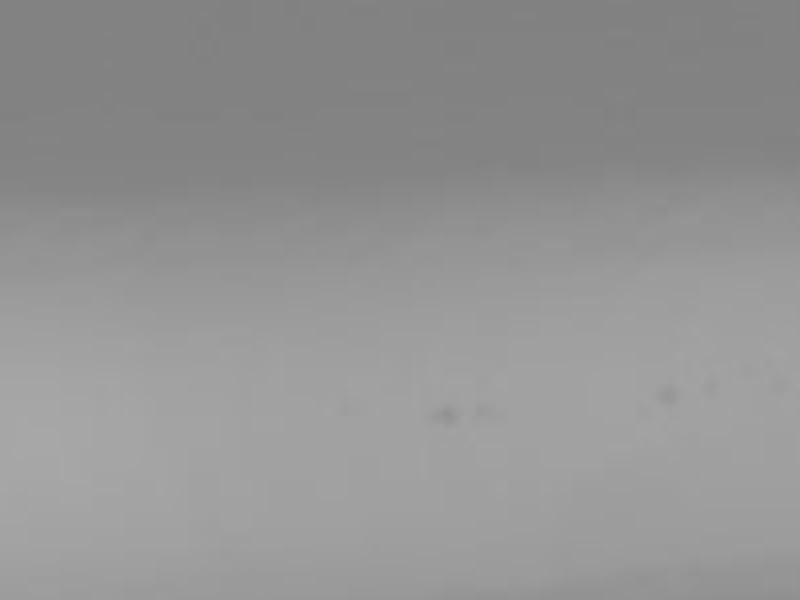defect: (476, 400, 509, 428), (654, 382, 683, 408), (432, 400, 459, 427)
